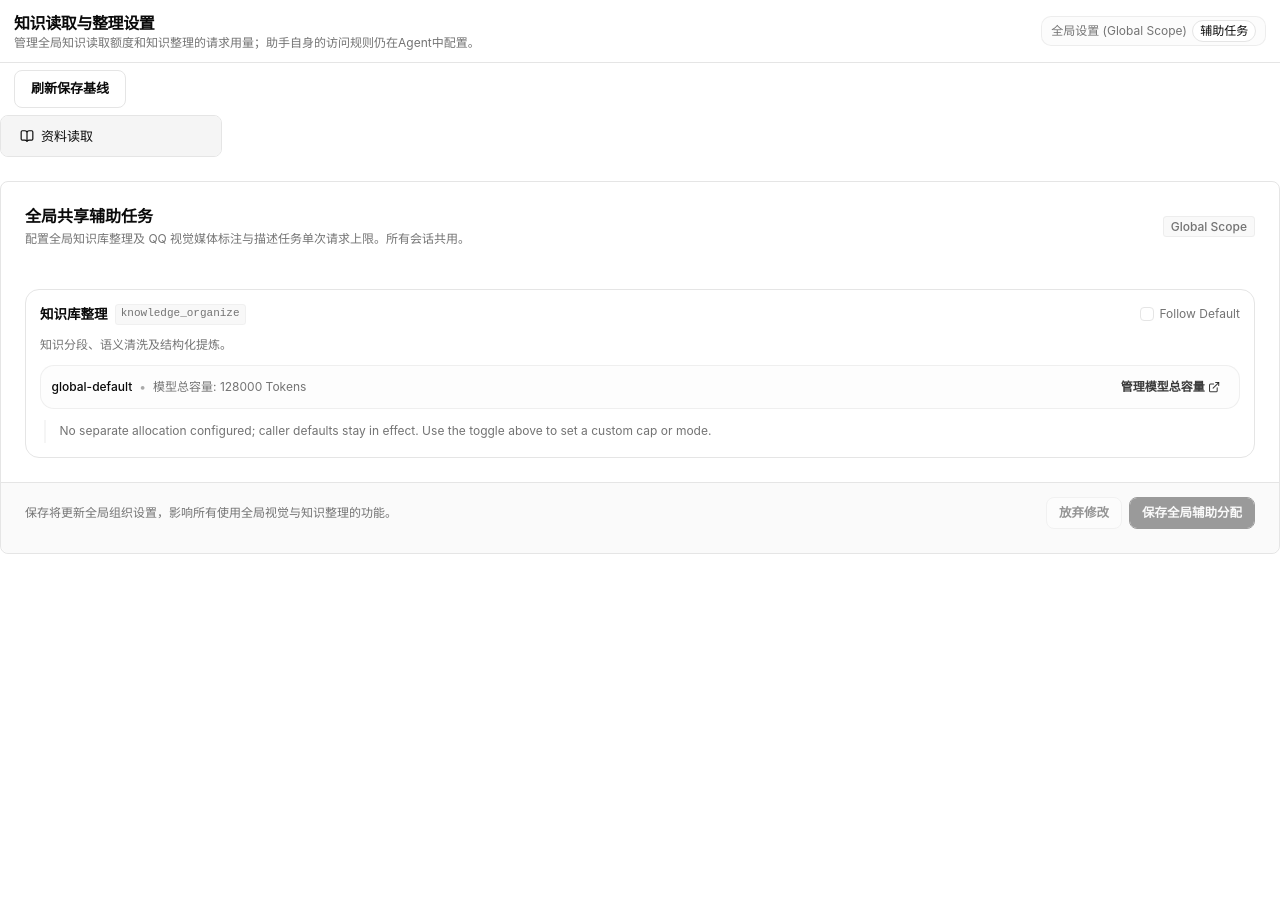
Scenario: 统一上下文分配真实接线 › 全局辅助分配 409：草稿与输入原样保留，无隐式自动重存
Click the checkbox with test id "aux-custom-toggle-knowledge_organize" at (1147, 314), box [1140,307,1154,321]
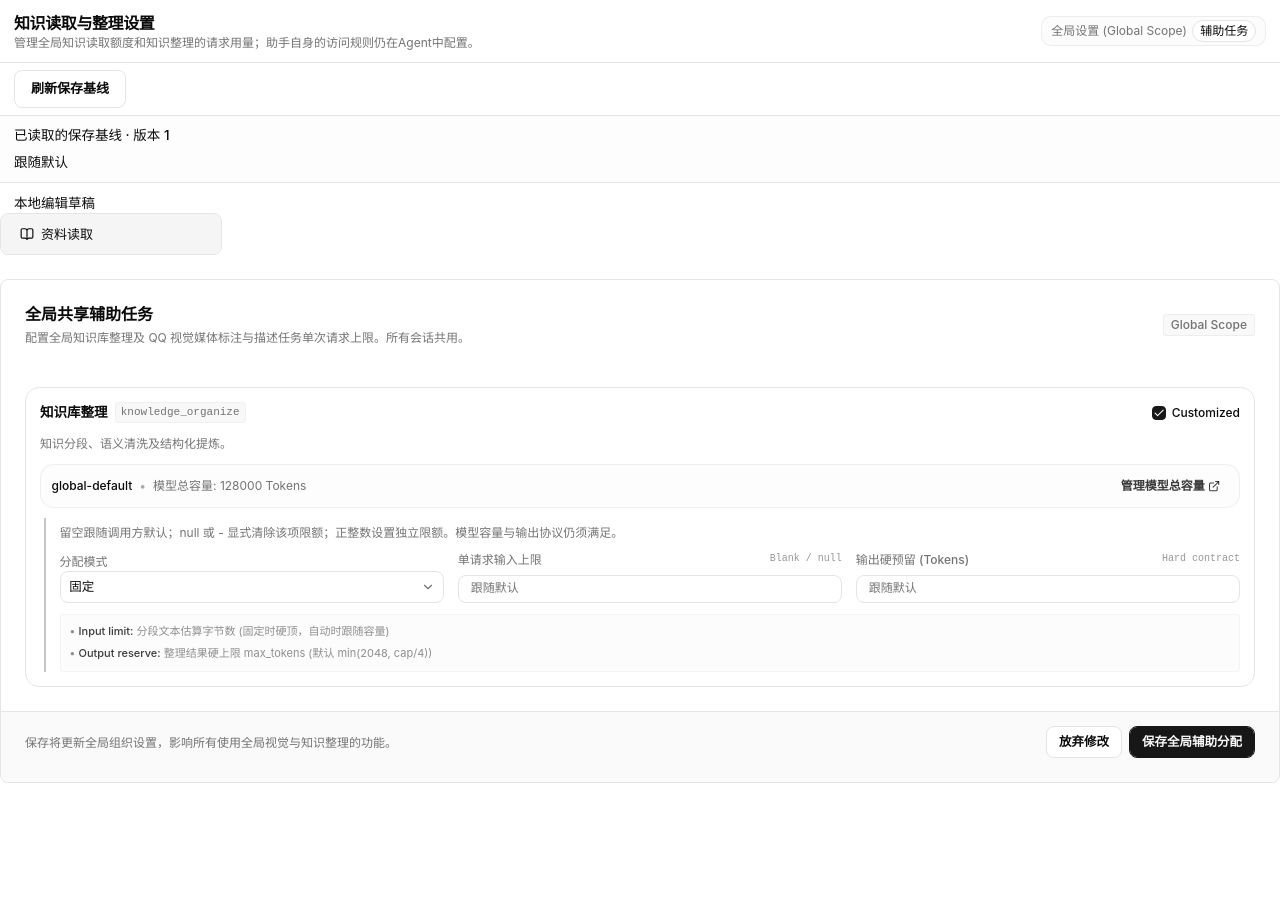
Type "2048" into the field with test id "aux-output-reserved-knowledge_organize" at (1048, 589), box [856,575,1240,603]
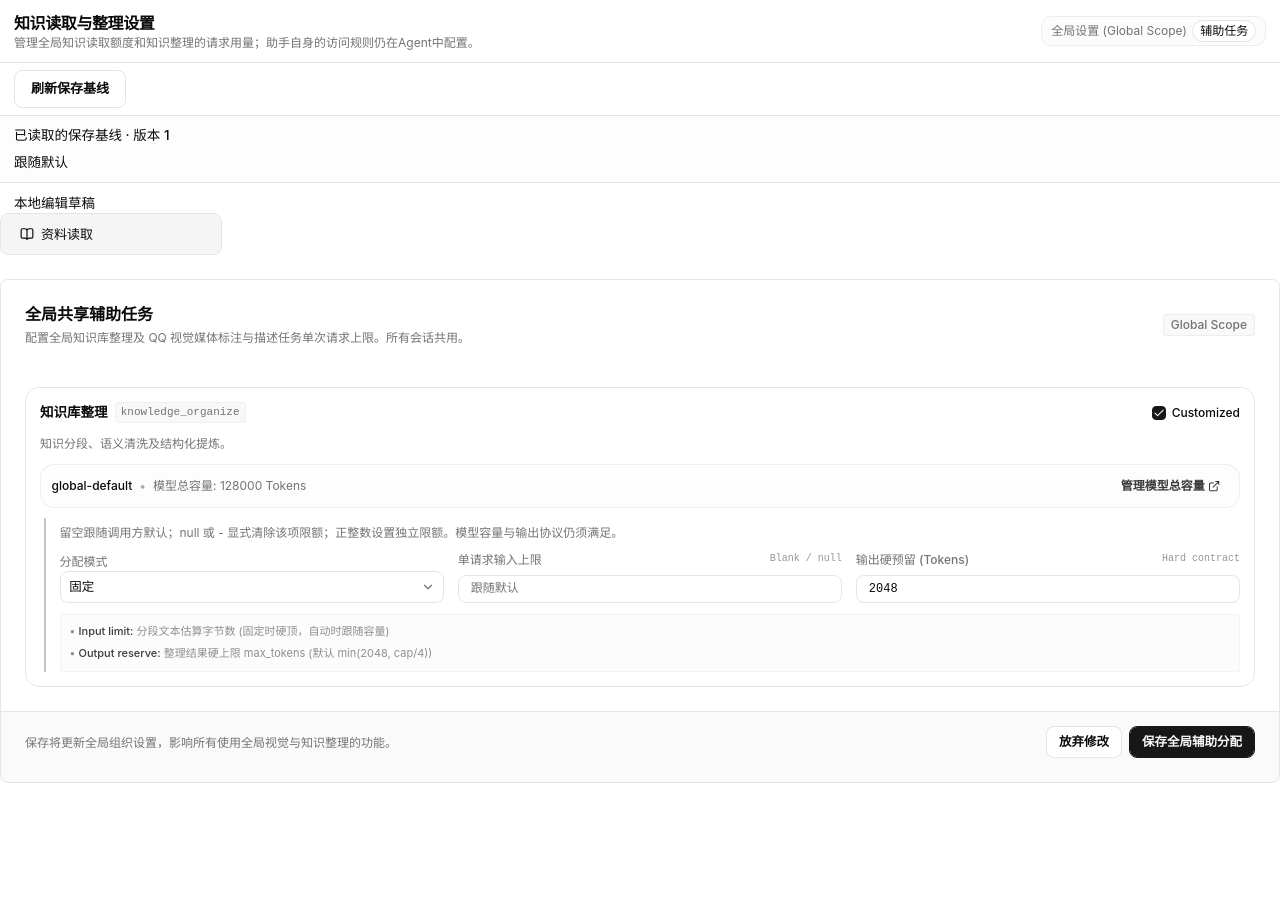
Click the button with test id "aux-save-global-btn" at (1192, 742), box [1129,726,1255,758]
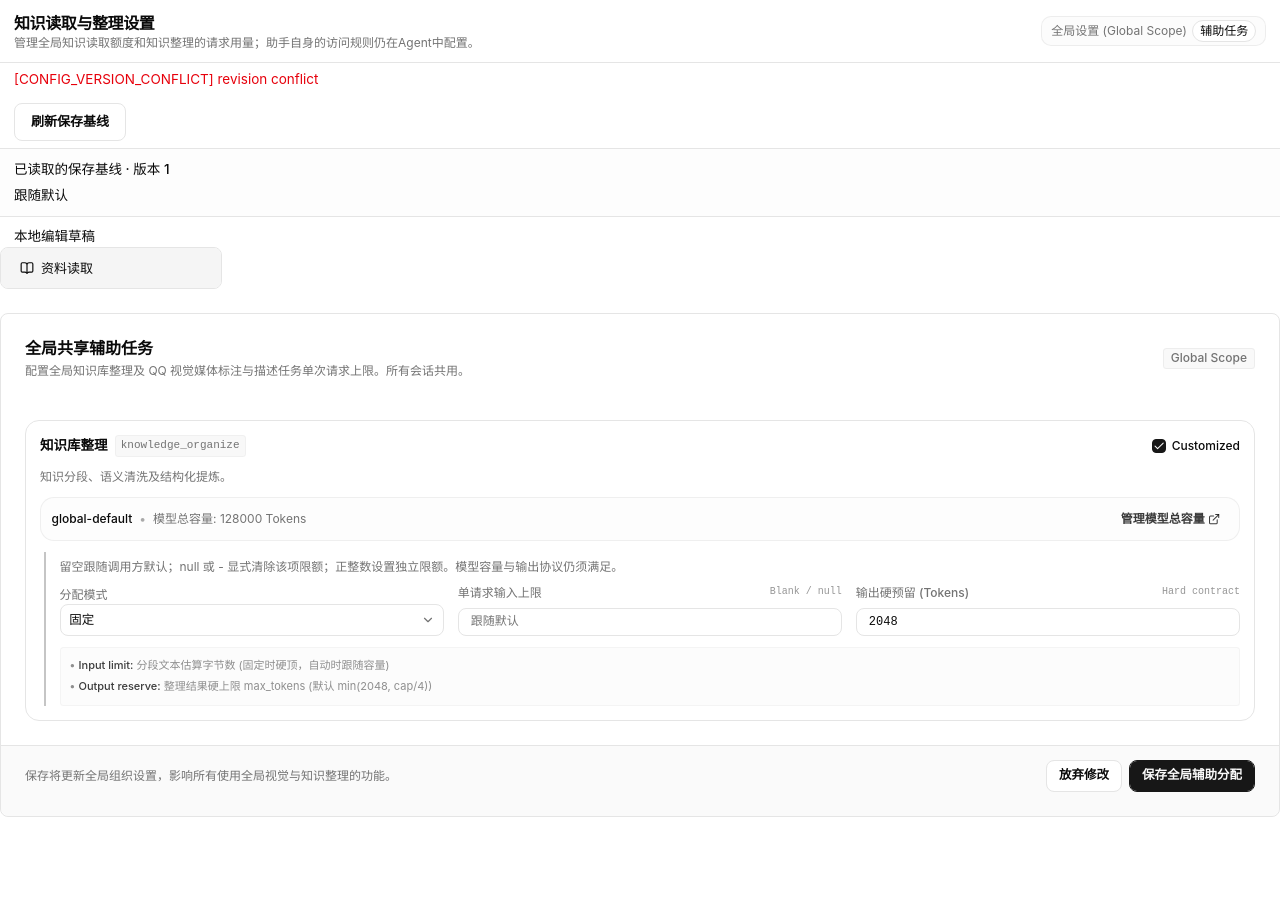
Expected: the message shows "CONFIG_VERSION_CONFLICT", [14,71,318,87]
